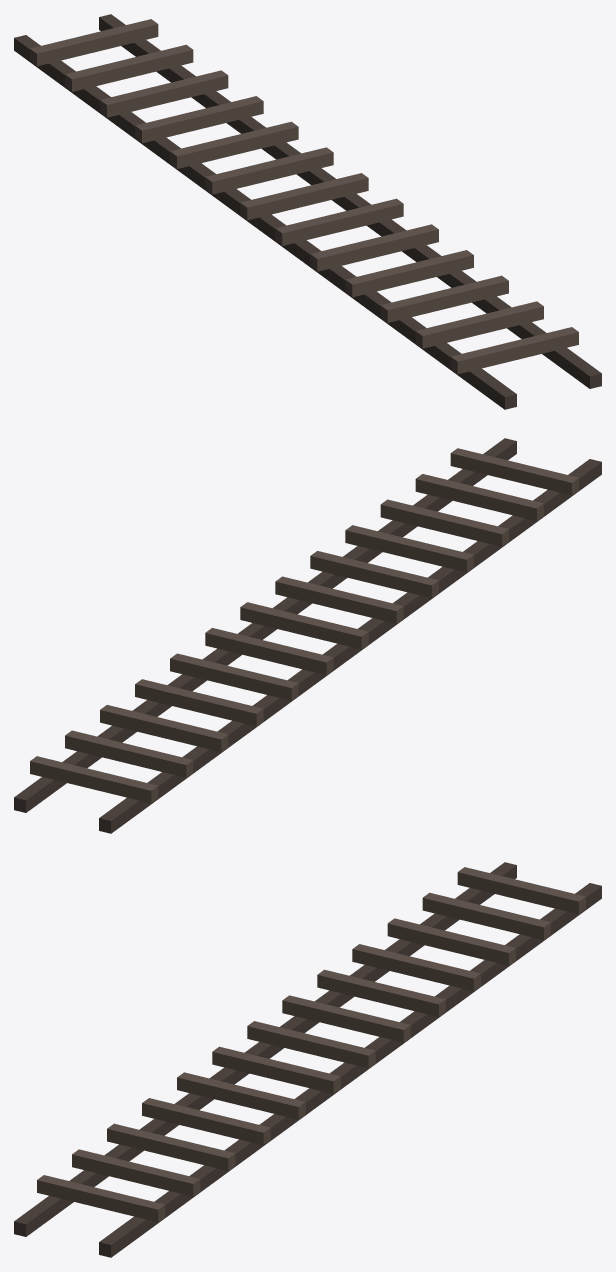
The model's file is Stair.fbx.
3 renders of one model, top to bottom at view 1: azimuth 30°, elevation 25°; view 2: azimuth 150°, elevation 25°; view 3: azimuth 330°, elevation 25°, orthographic.
Visible parts, largest first — view 1: Stair; view 2: Stair; view 3: Stair.
Boxes of the visible parts, x1,y1,x2,y2 form: Stair: [14, 14, 601, 409]; Stair: [14, 438, 601, 833]; Stair: [14, 862, 601, 1257].
Bounding box in the file's own units: 100 × 20 × 700.
